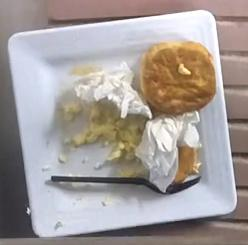bun: (140, 42, 216, 117)
scrambled_eggs: (60, 97, 149, 168)
